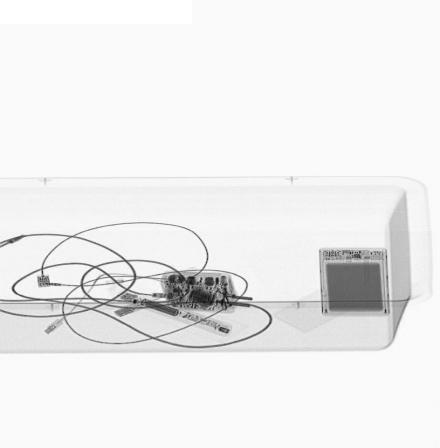Powerbank: (320, 247, 390, 317)
